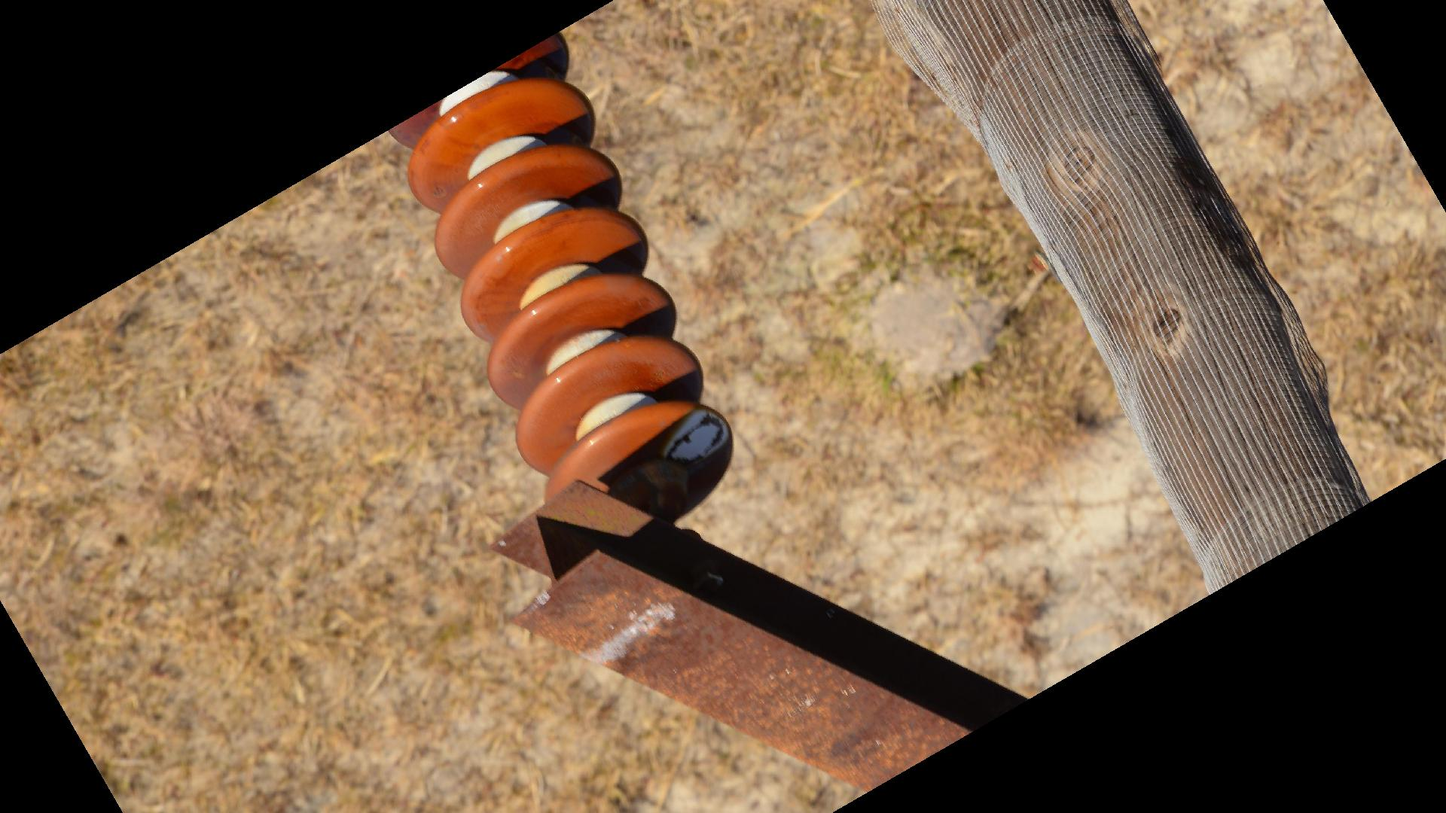insulator: (379, 28, 740, 520)
insulator_flashover: (663, 407, 732, 465)
